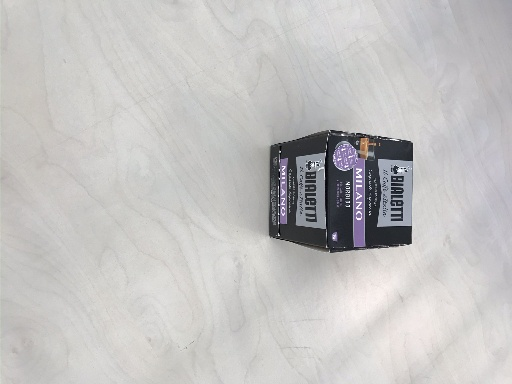Caffe: (269, 128, 415, 252)
